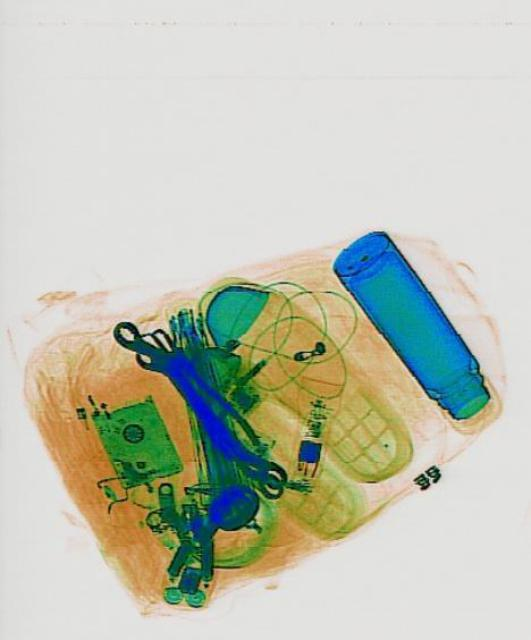Wrench: (106, 314, 291, 494)
